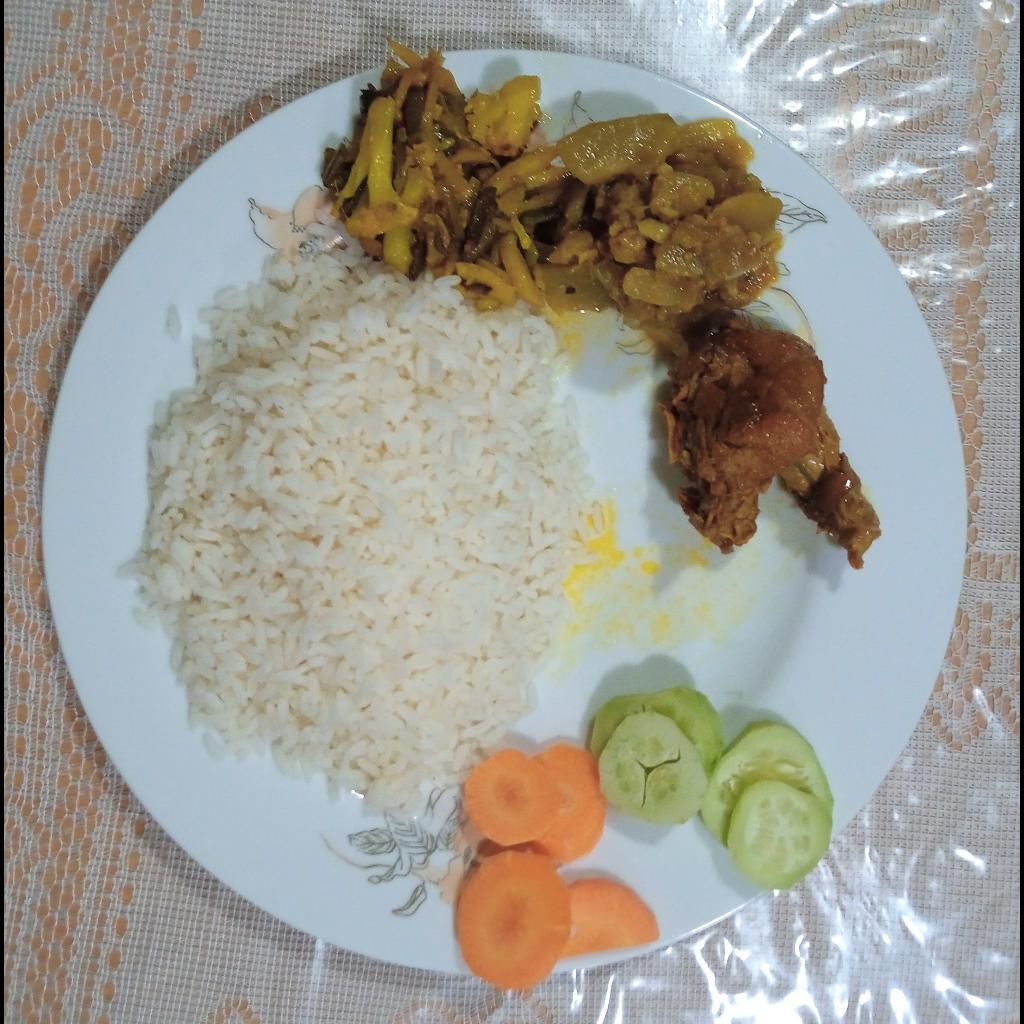carrot: (456, 742, 660, 994)
chicken: (664, 308, 883, 574)
cucumber: (587, 685, 834, 889)
lau: (545, 114, 786, 355)
rice: (124, 250, 609, 815)
vegetable: (319, 38, 566, 305)
